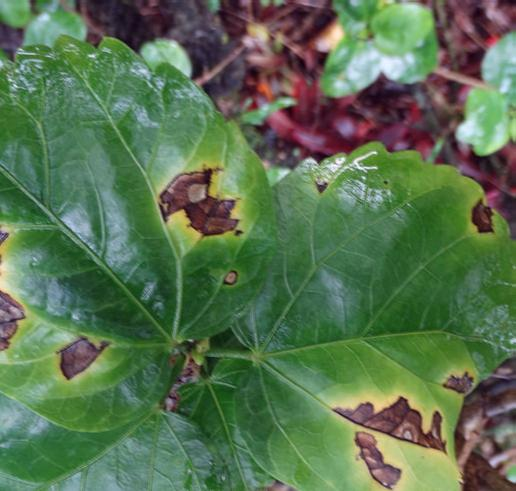Tomato Septoria leaf spot: (0, 38, 278, 415), (236, 154, 516, 491)
